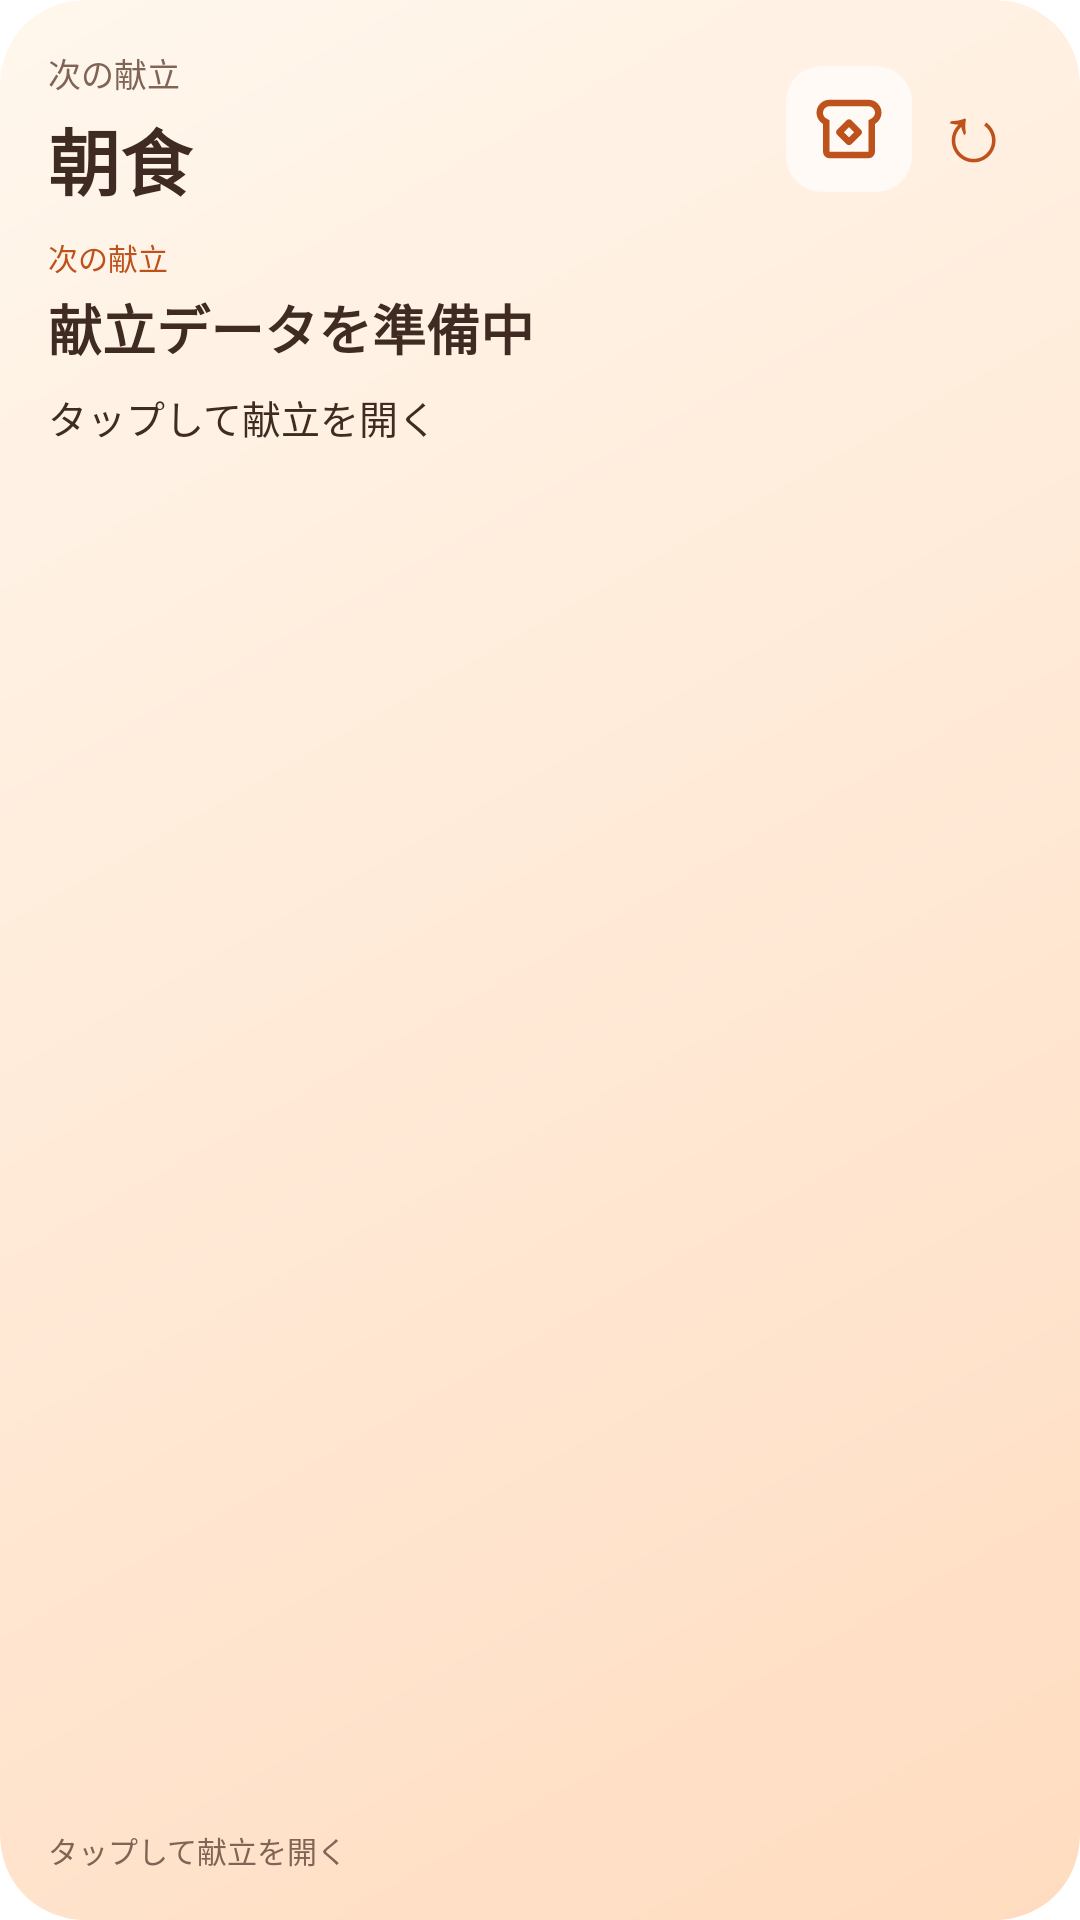

Point at icon controls on the screen. Image size 1080*1920, points as (x=x, y=y).
notification symbol breakfast dining: (x=849, y=129)
